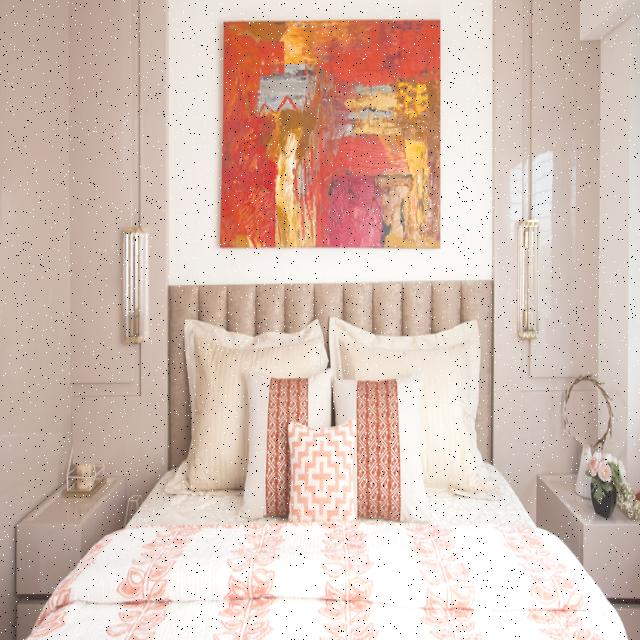bed: (45, 308, 612, 640)
